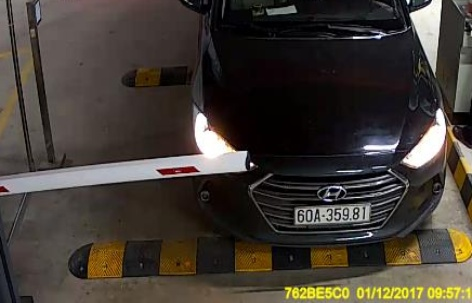plate: (293, 199, 371, 223)
